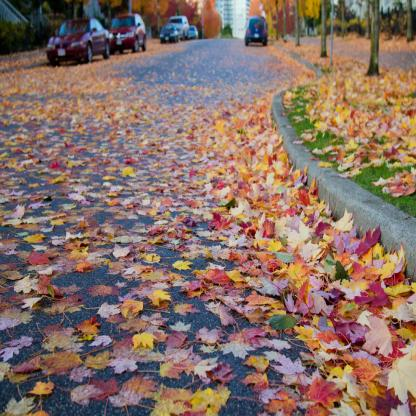Car: (45, 16, 110, 68), (110, 12, 148, 53), (246, 15, 269, 49), (170, 17, 191, 41), (161, 25, 180, 43), (191, 25, 200, 39)
